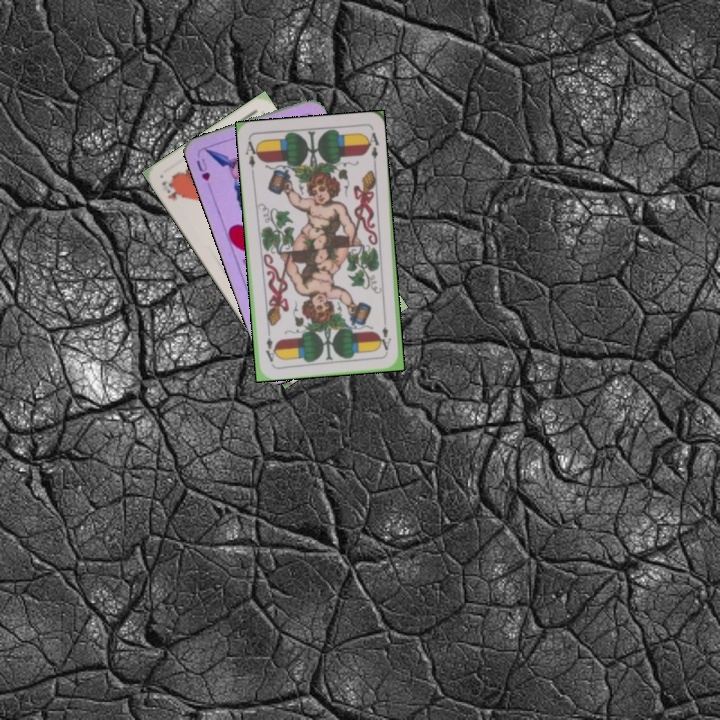EA: (377, 314, 394, 355), (241, 137, 262, 170)
HO: (157, 176, 185, 203)
HU: (192, 154, 213, 183)
